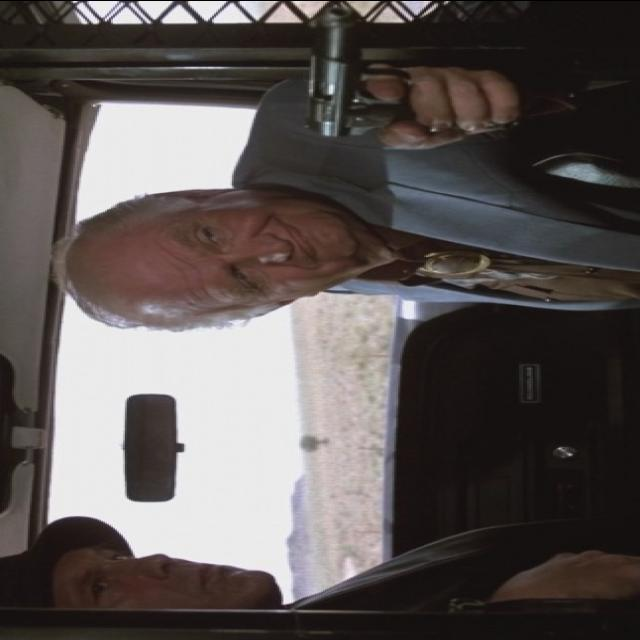weapons: (261, 4, 477, 151)
